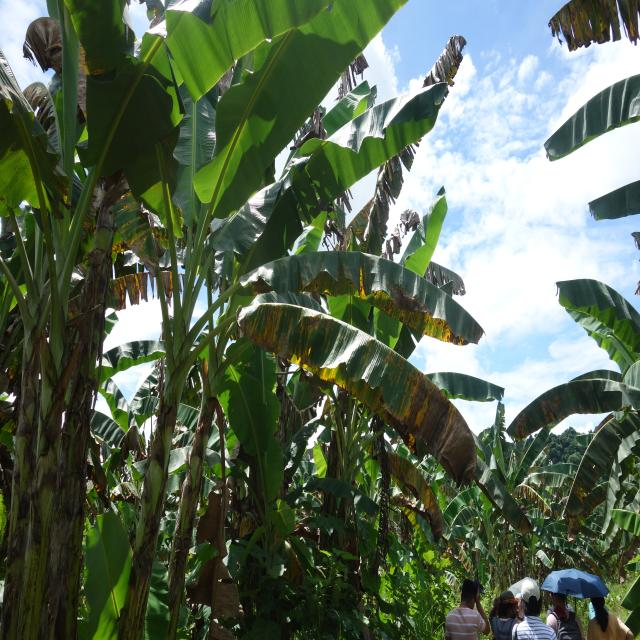Banana-plant: (16, 216, 95, 640), (44, 225, 120, 638), (154, 344, 252, 638), (110, 305, 191, 640), (0, 246, 54, 640)
